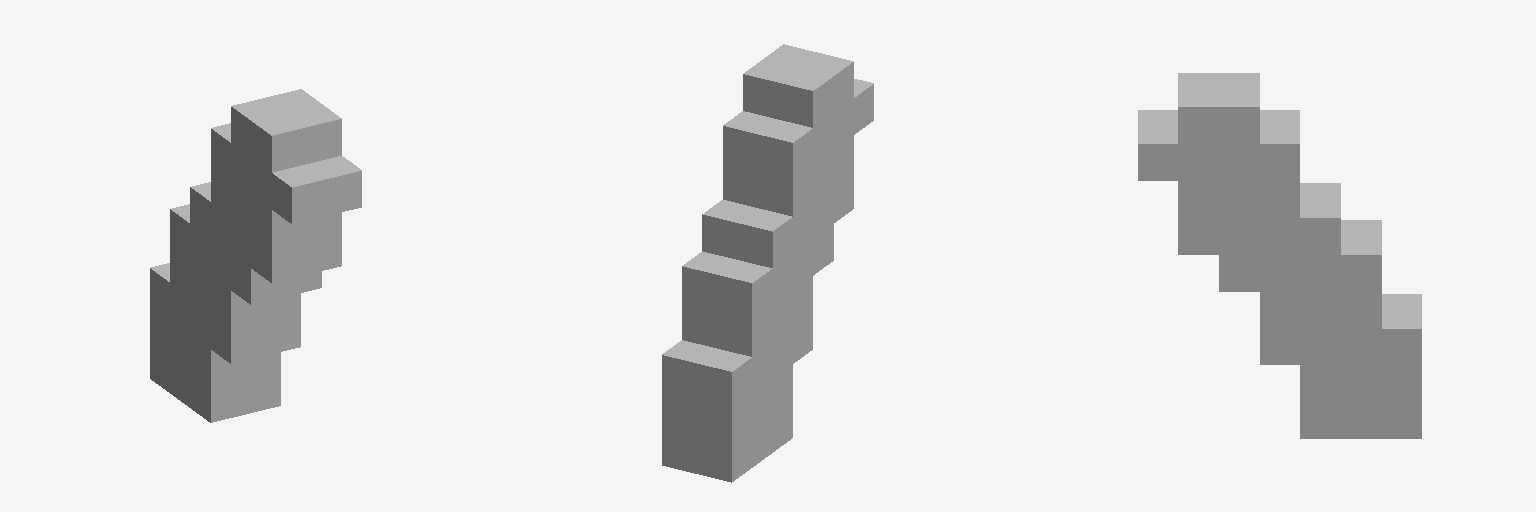
The model's file is bombeman-1-legl.obj.
3 views of the same model, side by side, from view 1: azimuth 30°, elevation 25°; view 2: azimuth 150°, elevation 25°; view 3: azimuth 270°, elevation 25° (orthographic).
Visible parts, largest first — view 1: legl; view 2: legl; view 3: legl.
Boxes of the visible parts, x1=… form: legl: x1=150, y1=89, x2=361, y2=422; legl: x1=662, y1=44, x2=873, y2=482; legl: x1=1138, y1=73, x2=1421, y2=438.
Bounding box in the file's own units: 0.2 × 0.9 × 0.7.